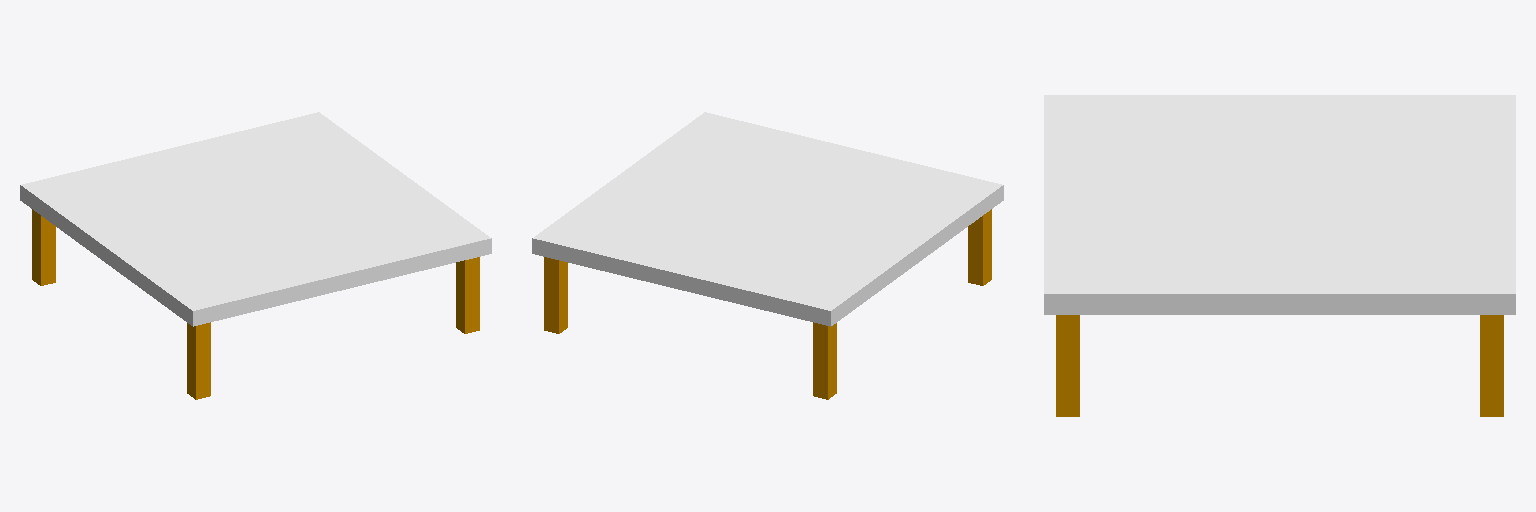
The robot description file, URDF, robot "table.urdf":
<?xml version="0.0" ?>
<robot name="table.urdf">
  <link name="baseLink">
    <contact>
      <lateral_friction value="1.0"/>
    </contact>
    <inertial>
      <origin rpy="0 0 0" xyz="0 0 0"/>
       <mass value=".0"/>
       <inertia ixx="1" ixy="0" ixz="0" iyy="1" iyz="0" izz="1"/>
    </inertial>
    <visual>
      <origin rpy="0 0 0" xyz="0 0 0.55"/>
      <geometry>
				<mesh filename="tabletop.obj" scale="2 2 0.1"/>
      </geometry>
       <material name="white">
        <color rgba="1 1 1 1"/>
      </material>
    </visual>
    <collision>
      <origin rpy="0 0 0" xyz="0 0 0.3"/>
      <geometry>
	 	<box size="2 2 0.6"/>
      </geometry>
    </collision>
	<visual>
      <origin rpy="0 0 0" xyz="-0.9 -0.9 0.29"/>
      <geometry>
	    <mesh filename="tabletop.obj" scale="0.1 0.1 0.58"/>
      </geometry>
	  <material name="framemat0"/>
    </visual>
    <visual>
      <origin rpy="0 0 0" xyz="-0.9 0.9 0.29"/>
      <geometry>
        <mesh filename="tabletop.obj" scale="0.1 0.1 0.58"/>
      </geometry>
	  <material name="framemat0"/>
	  </visual>
    <visual>
      <origin rpy="0 0 0" xyz="0.9 -0.9 0.29"/>
      <geometry>
        <mesh filename="tabletop.obj" scale="0.1 0.1 0.58"/>
      </geometry>
	  <material name="framemat0"/>
	  </visual>
    <visual>
      <origin rpy="0 0 0" xyz="0.9 0.9 0.29"/>
      <geometry>
        <mesh filename="tabletop.obj" scale="0.1 0.1 0.58"/>
      </geometry>
    </visual>
  </link>
</robot>

--- What the picture shows (computed from the rendered views, not written in the file) ---
3 views of the same robot in one strip: view 1: azimuth 30°, elevation 25°; view 2: azimuth 150°, elevation 25°; view 3: azimuth 270°, elevation 25° (orthographic).
Robot: table.urdf — 1 links, 0 joints (none); root link baseLink; default pose: all joints at 0.
Visible links, largest first — view 1: baseLink; view 2: baseLink; view 3: baseLink.
Boxes of the visible links, bbox=[...] form: baseLink: bbox=[20, 112, 491, 399]; baseLink: bbox=[532, 112, 1003, 399]; baseLink: bbox=[1044, 95, 1515, 416].
Size in the robot's own frame: 2 by 2 by 0.6 metres.
Meshes: 1 distinct files referenced, 5 mesh visuals loaded (1 OBJ).